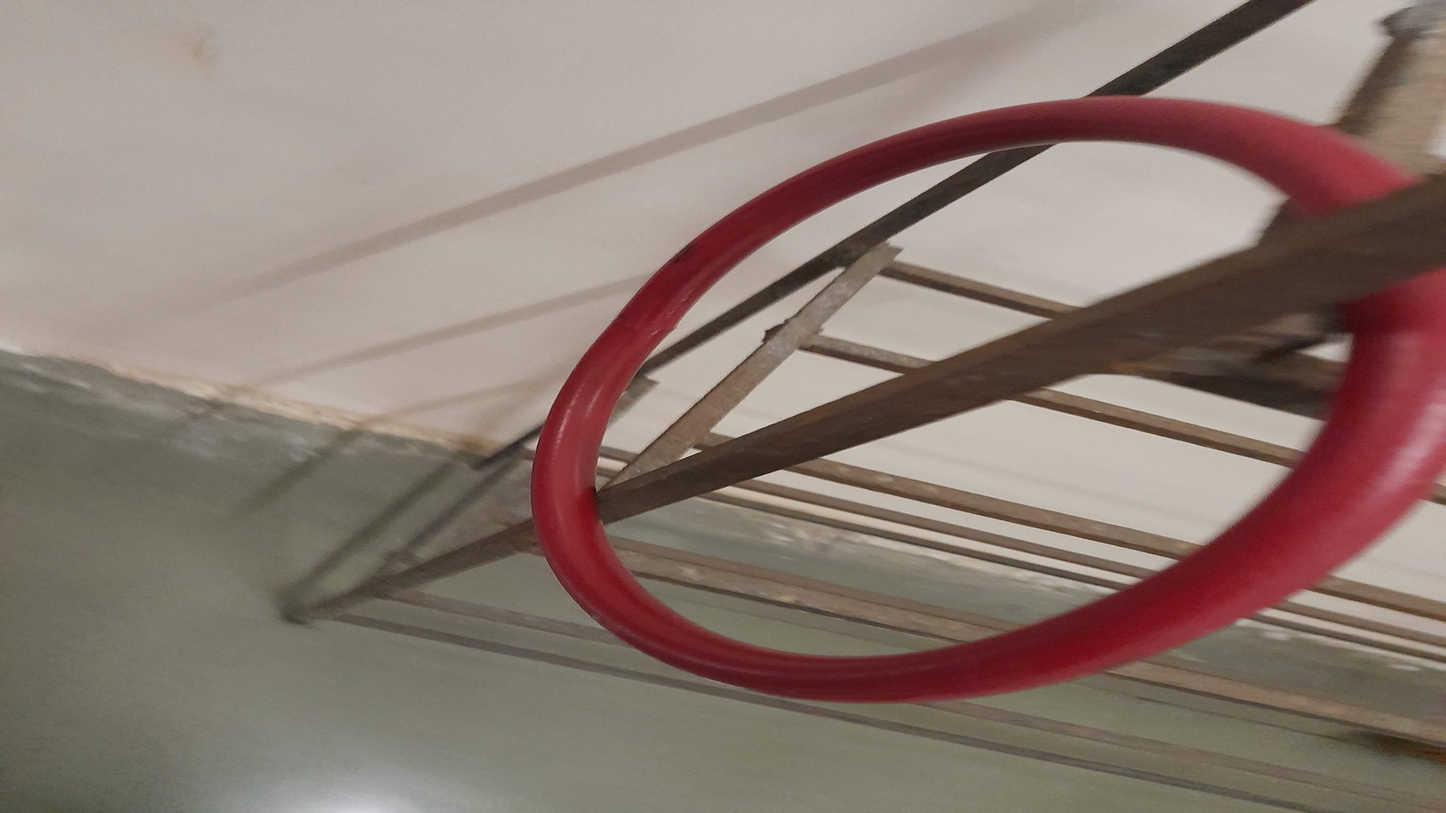Red ring: (532, 102, 1414, 707)
